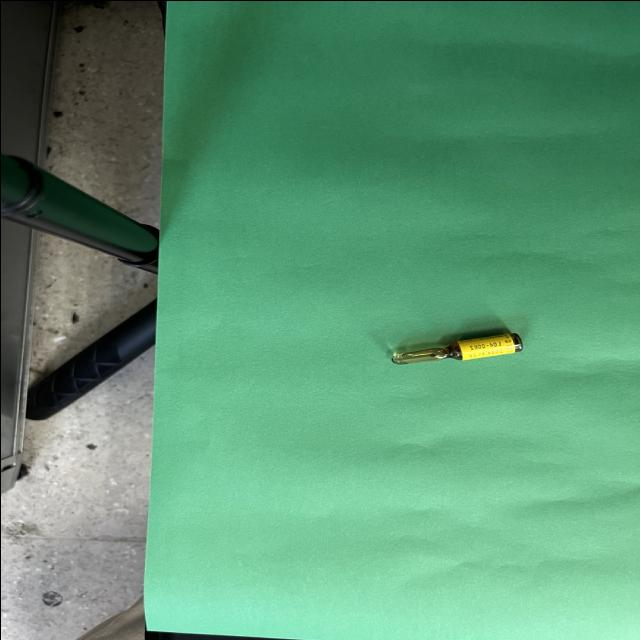Ampoules: (391, 332, 521, 364)
